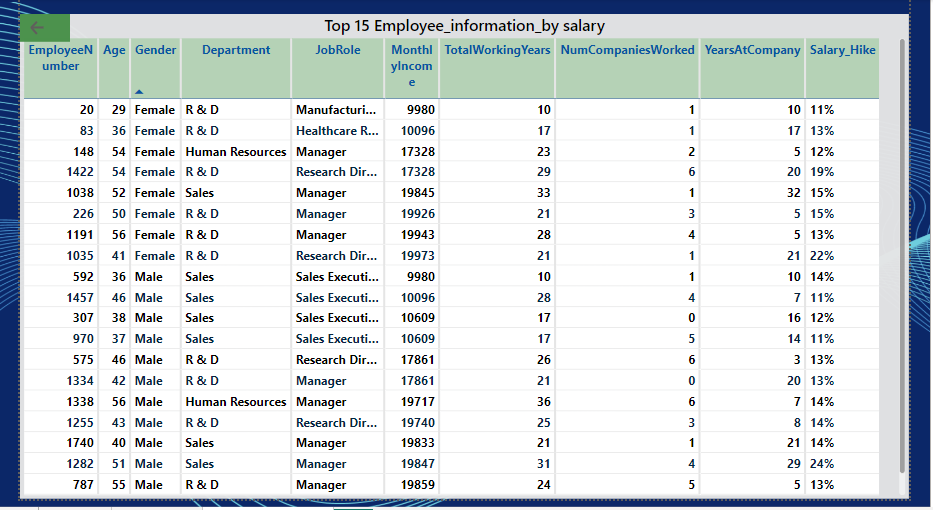

What the dashboard file says about the page in this screenshot:
{"tool":"powerbi","page":{"name":"Top 15_emp_info","canvas":[1280,720],"ordinal":2},"visuals":[{"type":"tableEx","title":"Top 15 Employee_information","fields":{"Values":["HR-Employee-Attrition.EmployeeNumber","HR-Employee-Attrition.Age","HR-Employee-Attrition.Gender","HR-Employee-Attrition.Department","HR-Employee-Attrition.JobRole","HR-Employee-Attrition.MonthlyIncome","HR-Employee-Attrition.TotalWorkingYears","HR-Employee-Attrition.NumCompaniesWorked","HR-Employee-Attrition.YearsAtCompany","HR-Employee-Attrition.Salary_Hike"]},"box":[0,21.6,1280.2,698.4],"z":0},{"type":"actionButton","box":[0,21.6,72,40.3],"z":1000}]}

Visuals, with their boxes in screenshot pixels (x1, y1, x2, y2):
"Top 15 Employee_information" tableEx: locate(15, 13, 909, 501)
actionButton: locate(15, 13, 65, 41)
